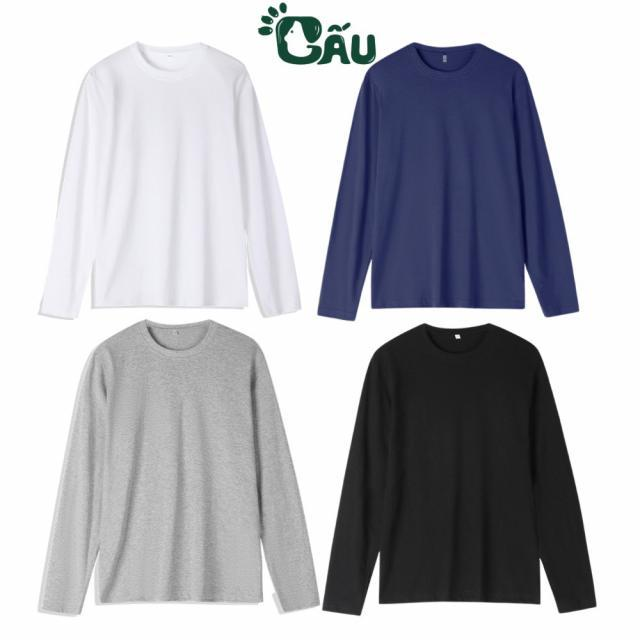Shirt: (35, 320, 321, 619), (324, 322, 602, 620), (32, 42, 302, 320), (318, 43, 586, 322)
